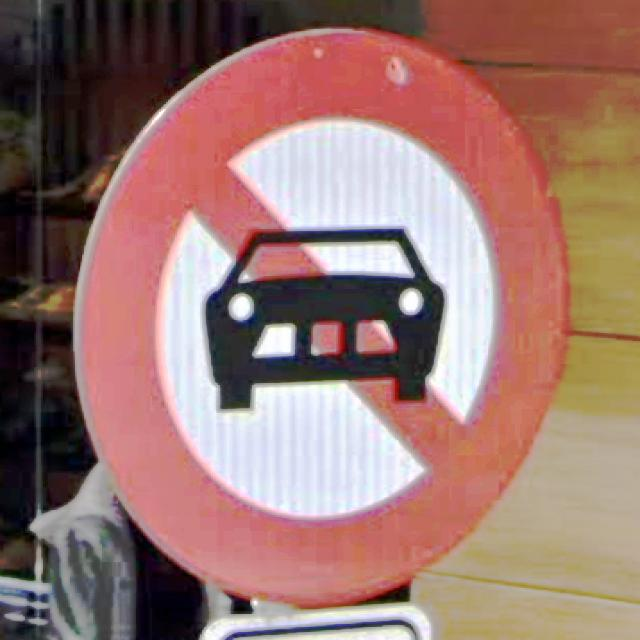nocar: (73, 29, 570, 611)
